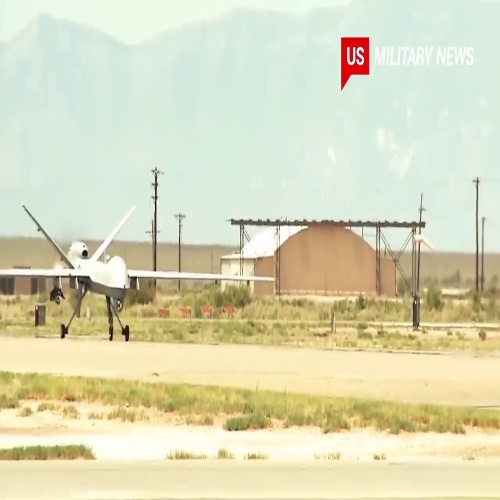uav421: (2, 204, 276, 343)
